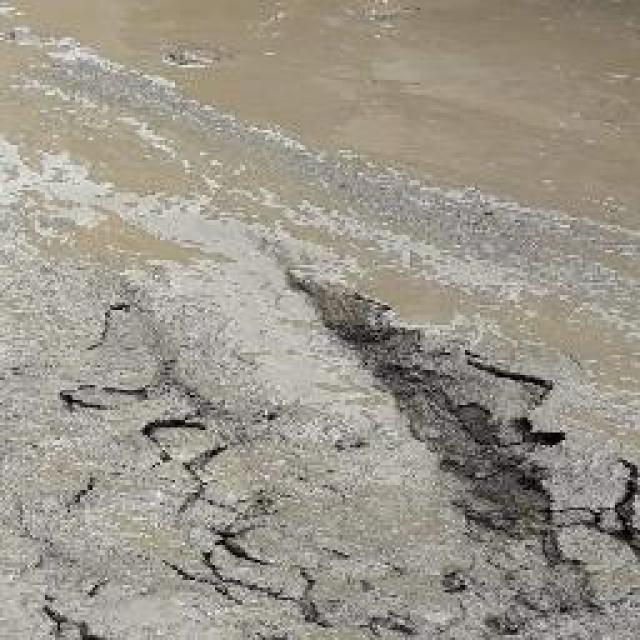stagnation: (0, 10, 583, 287)
